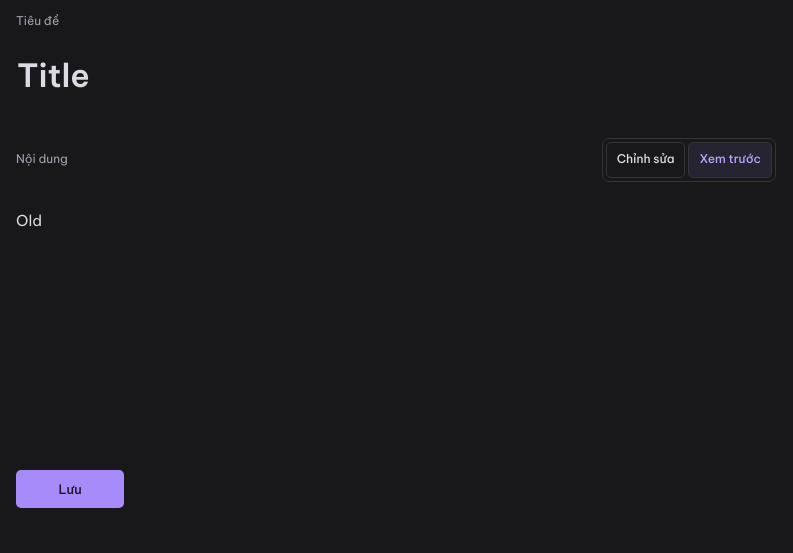
Test: previews the unsaved draft and preserves it when returning to edit
This screenshot has width=793, height=553.
Click the button "Chỉnh sửa". click: (646, 160)
box: [606,142,686,178]
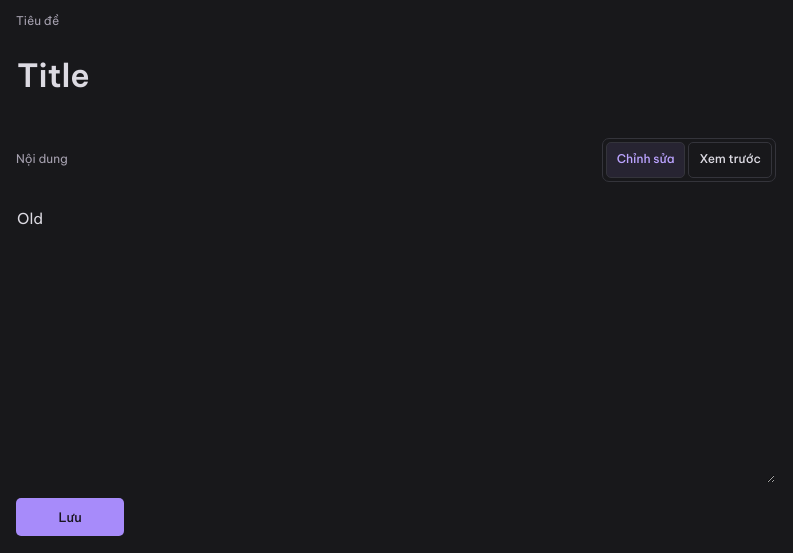
Replace the text in the text box labelled "Nội dung" with "# Unsaved draft". click: (396, 340)
box: [16,196,776,484]
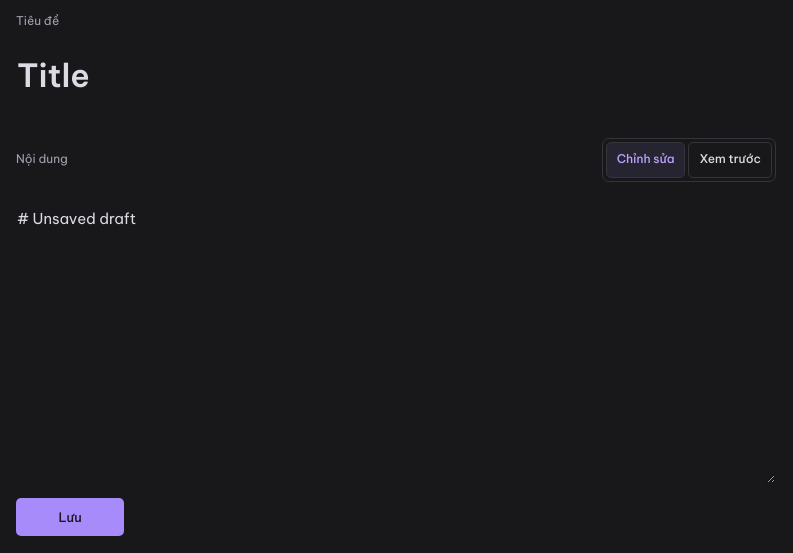
Click the button "Xem trước". click: (730, 160)
box: [688,142,772,178]
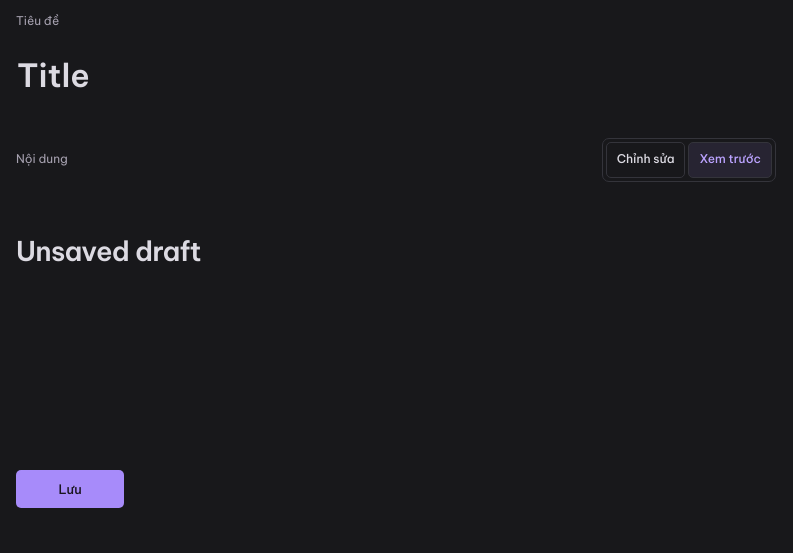
Result: the heading "Unsaved draft" is shown at [16,234,201,268]
Click the button "Chỉnh sửa". click: (646, 160)
box: [606,142,686,178]
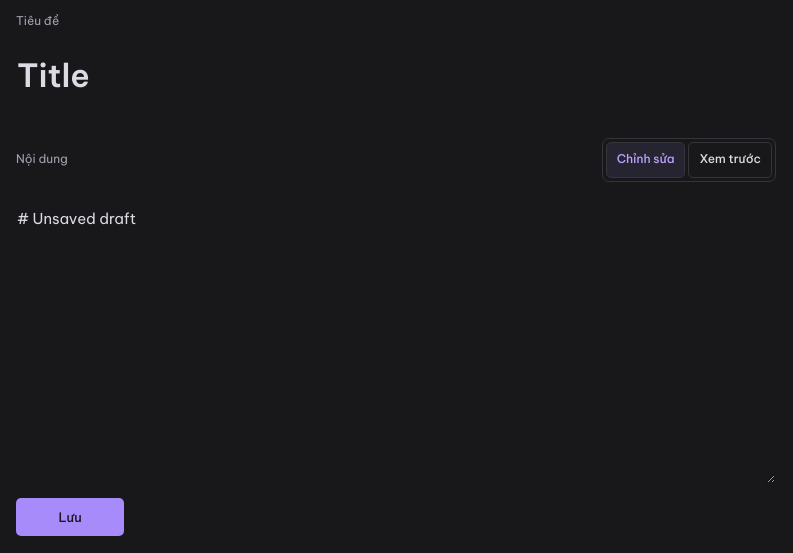
Result: the text box labelled "Nội dung" holds "# Unsaved draft" at [16,196,776,484]
